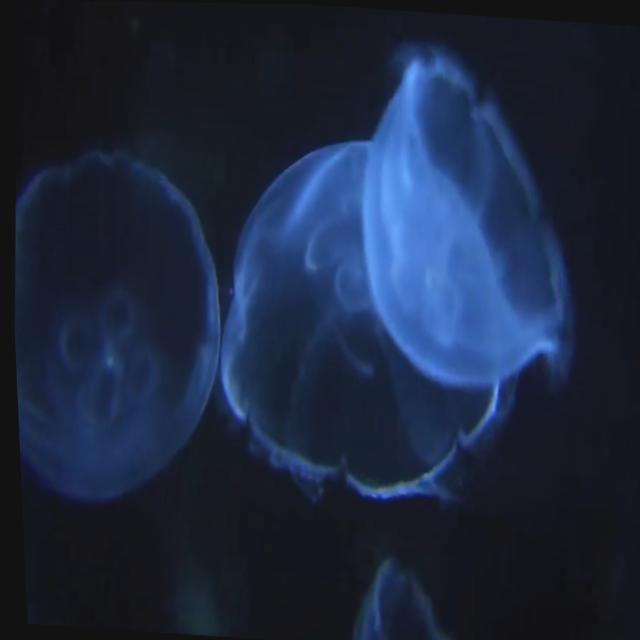Moon-jellyfish: (215, 44, 572, 530), (11, 151, 220, 508)
